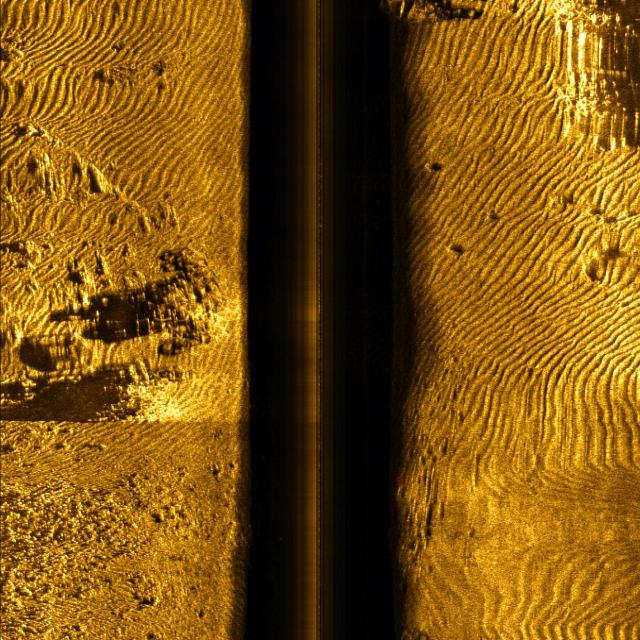artificial reef: (390, 611, 448, 640)
